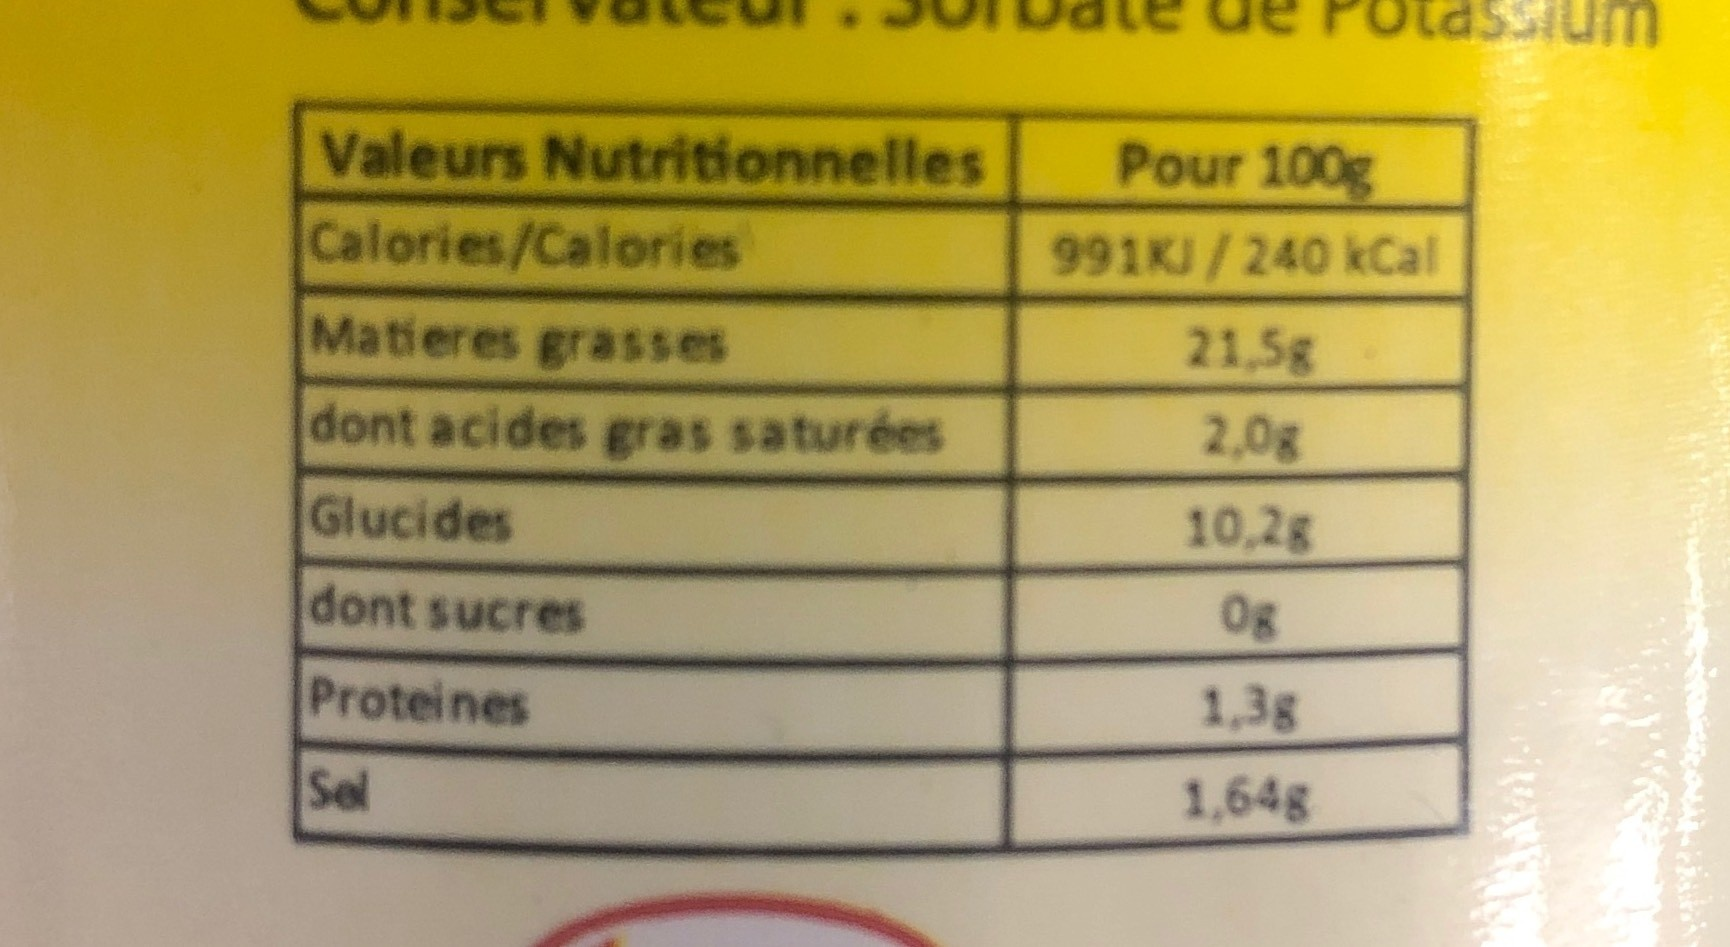column: (303, 119, 987, 844), (1042, 113, 1447, 844)
table: (290, 100, 1474, 841)
